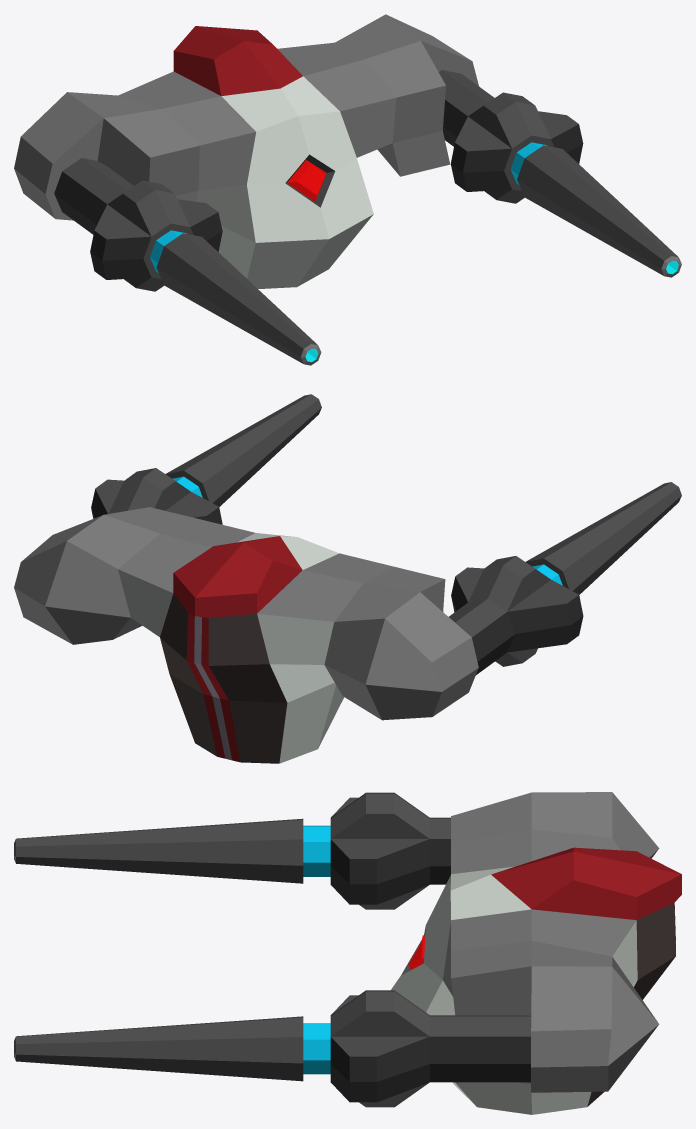
File: Turret_02.glb
3 renders of one model, top to bottom at view 1: azimuth 30°, elevation 25°; view 2: azimuth 150°, elevation 25°; view 3: azimuth 270°, elevation 25°, orthographic. The views are drawn at different scales.
Visible parts, largest first — view 1: Turret_02; view 2: Turret_02; view 3: Turret_02.
Part boxes in pixels (bbox=[...]): Turret_02: bbox=[14, 14, 681, 365]; Turret_02: bbox=[14, 394, 681, 763]; Turret_02: bbox=[14, 792, 681, 1114].
Size of what is drawn, in the model's own units: 2.85 by 1.18 by 3.05.
Materials: 2 (2 with a texture image).
